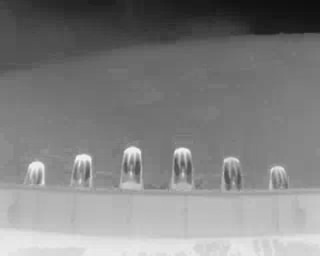claw: (172, 145, 193, 194), (121, 145, 143, 190), (72, 153, 94, 189), (222, 155, 244, 189), (24, 159, 45, 187), (271, 166, 289, 190)
